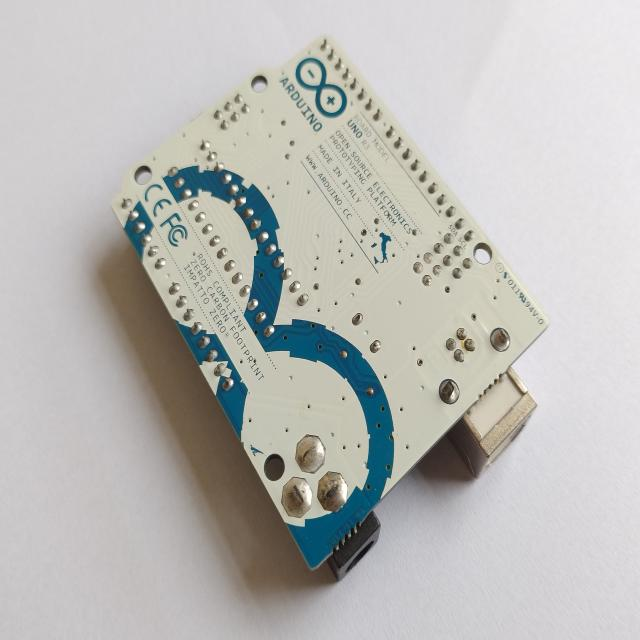arduino: (111, 21, 554, 597)
